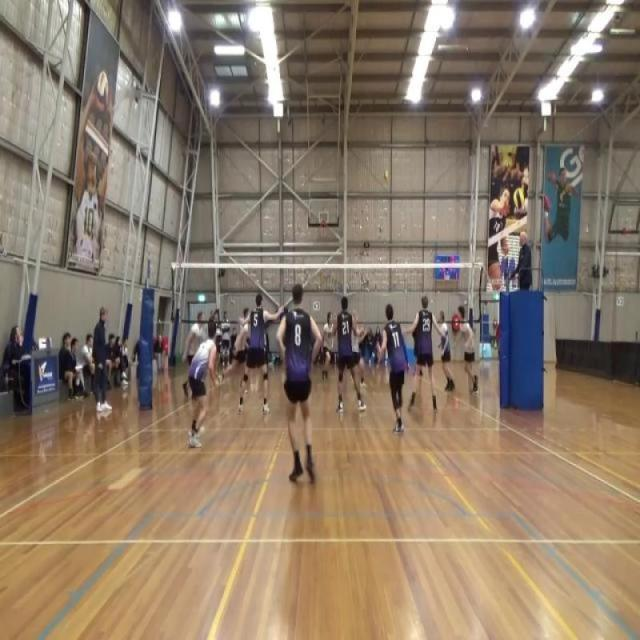volleyball: (94, 68, 110, 115), (512, 187, 526, 211), (382, 168, 389, 183)
